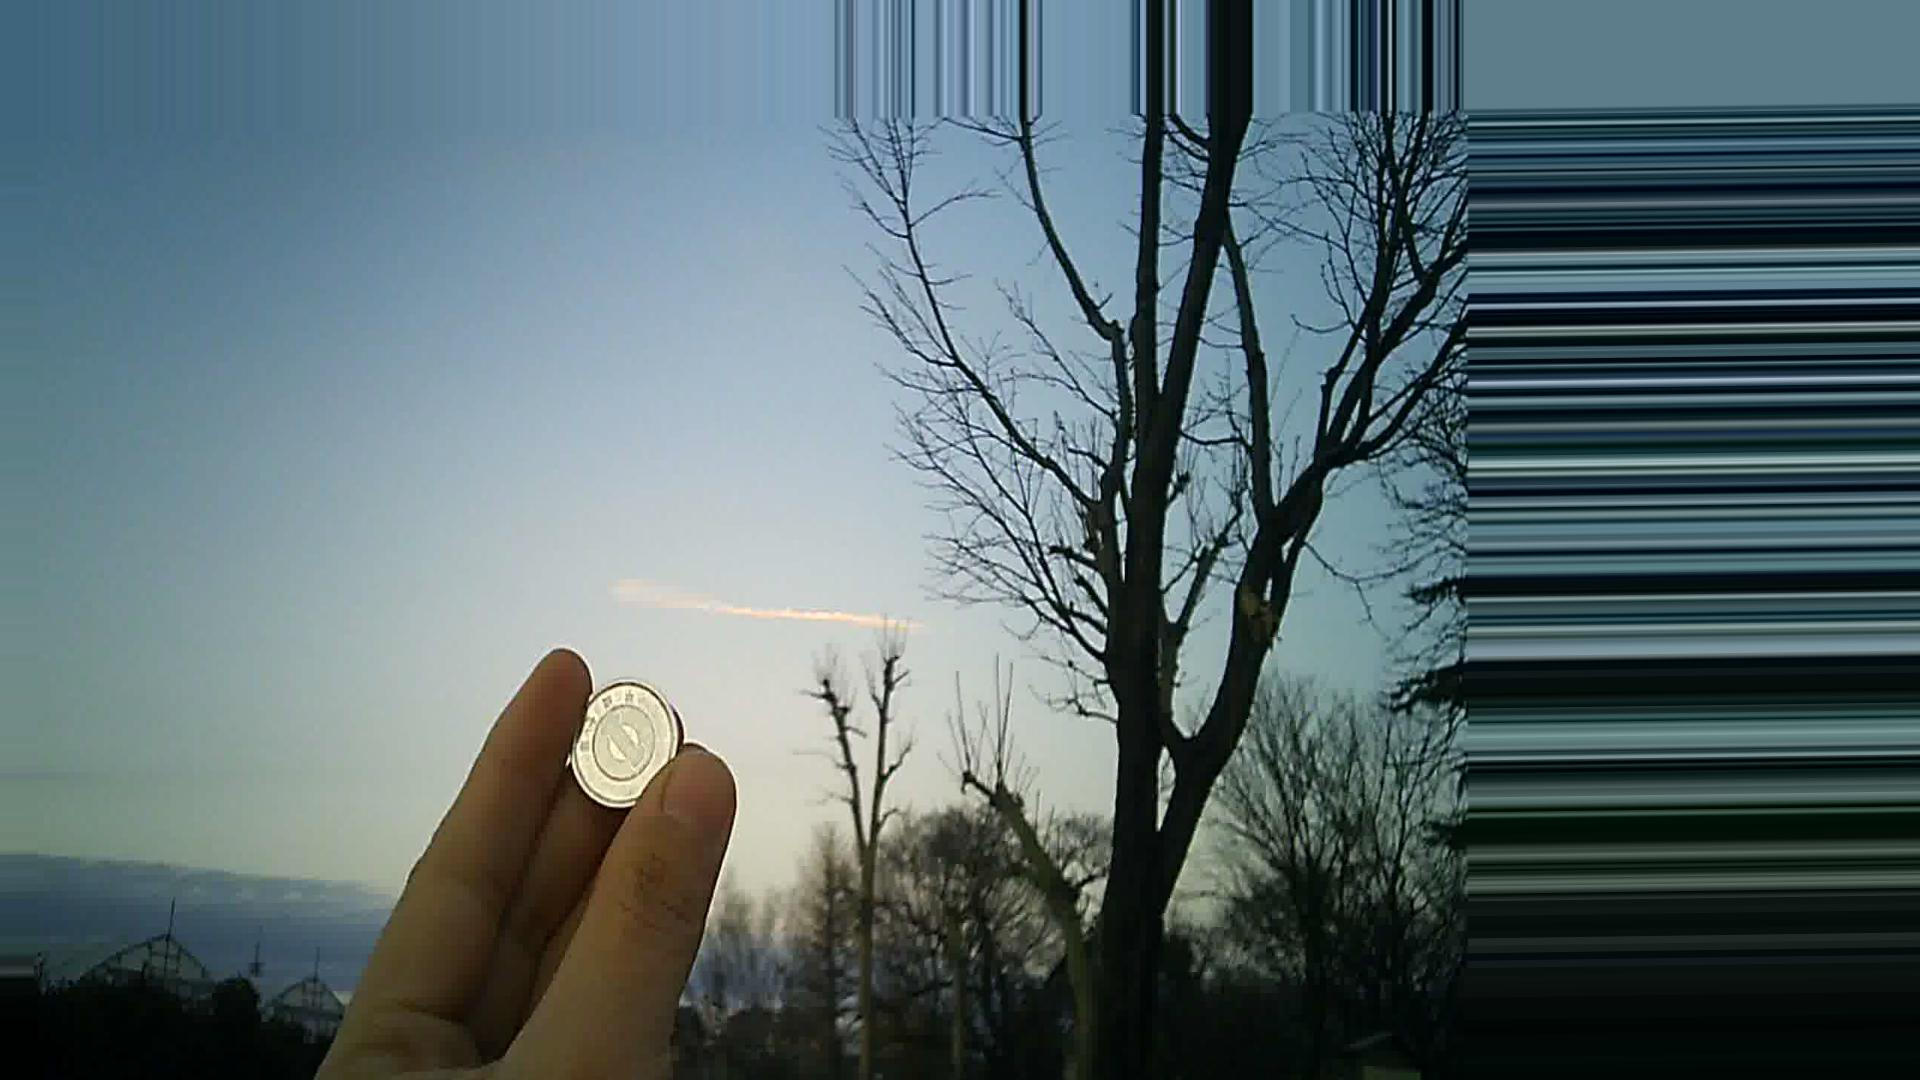1 Yen: (570, 678, 678, 807)
